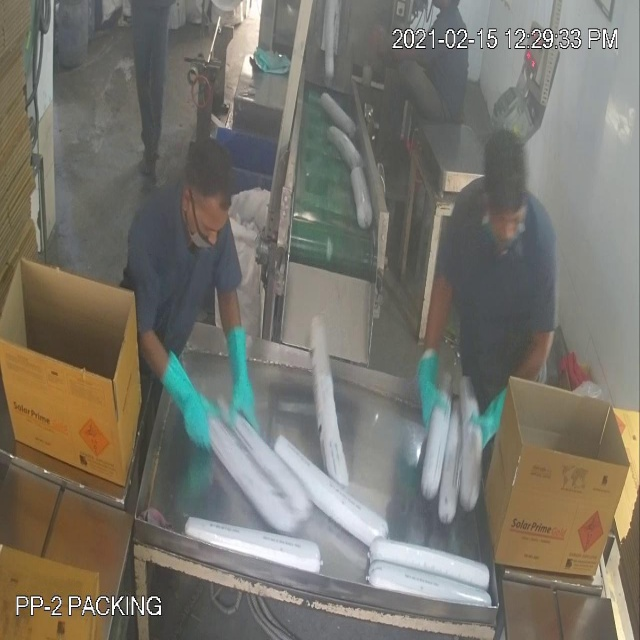Guantes: (156, 342, 225, 465), (210, 309, 264, 440), (414, 344, 456, 447), (474, 381, 518, 459)
